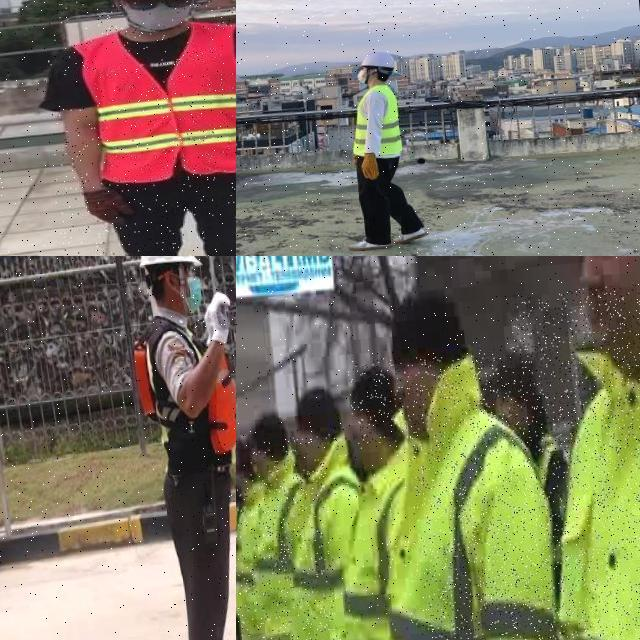boots: (392, 228, 429, 245), (348, 238, 392, 252)
helmet: (136, 256, 202, 273), (356, 50, 396, 71)
vest: (346, 344, 574, 640), (508, 267, 640, 640), (78, 18, 236, 184), (261, 431, 382, 640), (323, 440, 441, 640), (239, 442, 325, 640), (129, 307, 236, 456), (236, 474, 282, 640), (347, 84, 403, 158)
